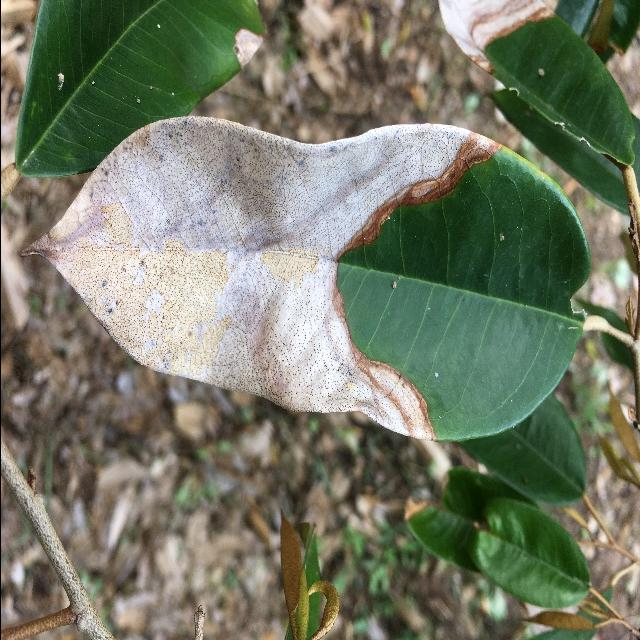Leaf Blight: (17, 110, 595, 449)
